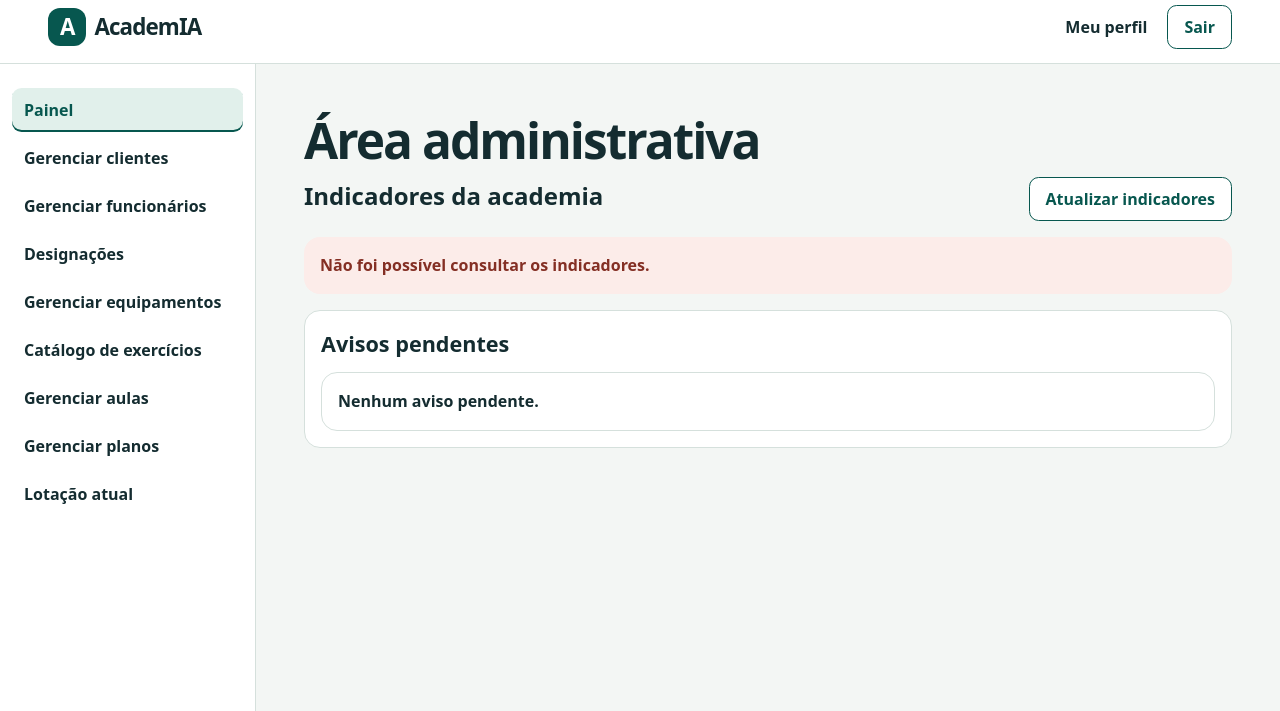
Scenario: permite nova consulta após indisponibilidade da API
Check: the text "Não foi possível consultar os indicadores." is shown, box [320, 254, 650, 276]
What coordinates should you click on to do the following:
click the button "Atualizar indicadores"
I would click on:
 (1130, 199)
Its box is [1028, 177, 1232, 221].
(page scrolled)
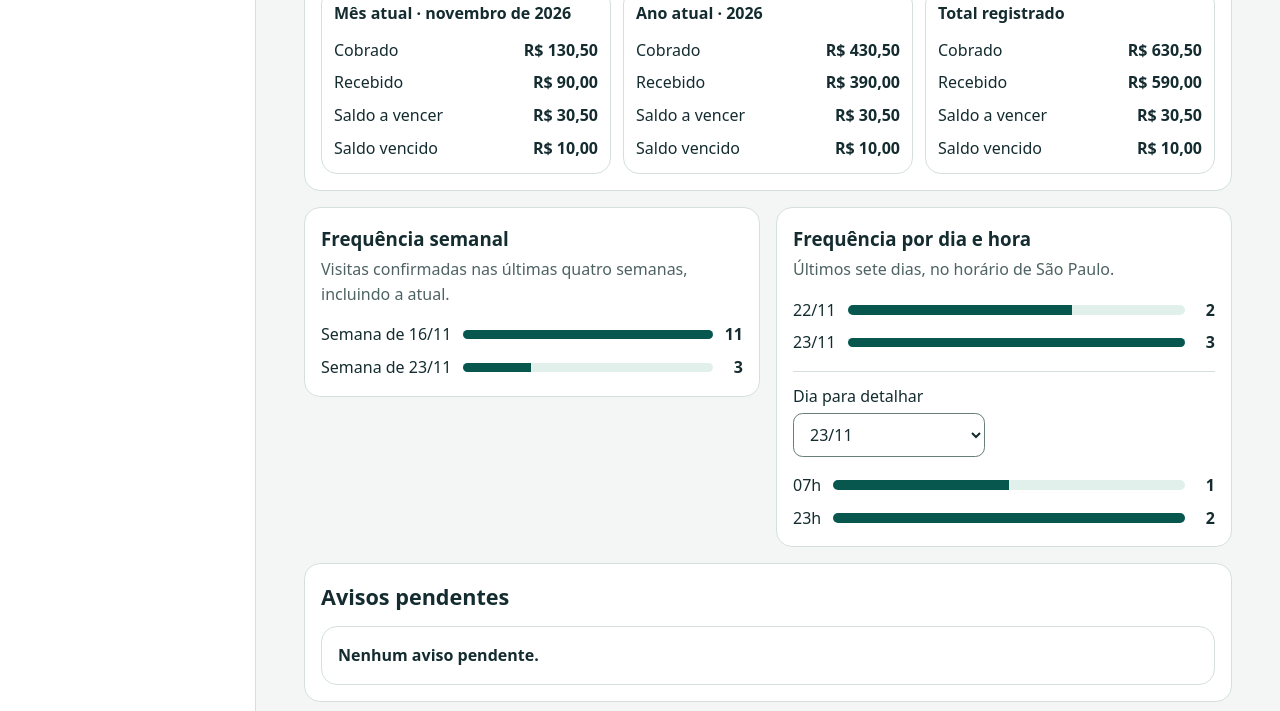
Check: the list named "Visitas por semana" is shown, box [321, 322, 743, 380]
